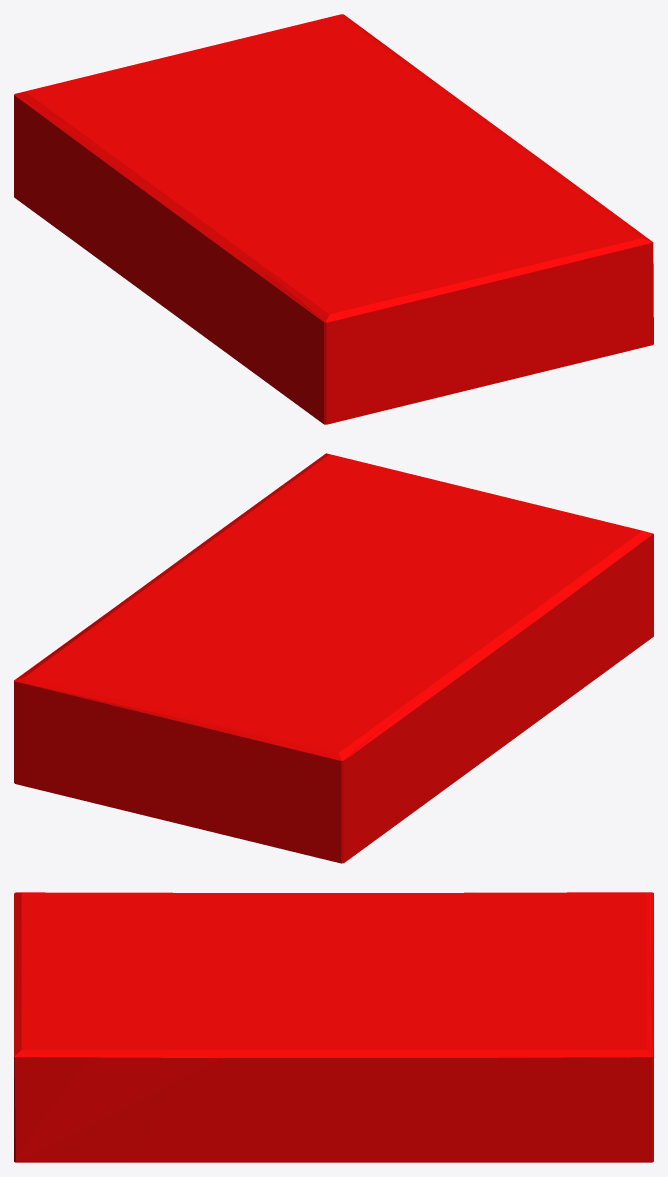
File: Fp301_Ps_301_Shelf_2_PsDesk_301_4_11.obj
3 renders of one model, top to bottom at view 1: azimuth 30°, elevation 25°; view 2: azimuth 150°, elevation 25°; view 3: azimuth 270°, elevation 25°, orthographic. The views are drawn at different scales.
Parts seen in each view (by area): view 1: PsDesk_301_4; view 2: PsDesk_301_4; view 3: PsDesk_301_4.
Boxes of the visible parts, x1=… form: PsDesk_301_4: x1=14, y1=14, x2=653, y2=424; PsDesk_301_4: x1=14, y1=453, x2=653, y2=863; PsDesk_301_4: x1=14, y1=892, x2=653, y2=1162.
Bounding box in the file's own units: 0.4084 × 0.1255 × 0.6686.
